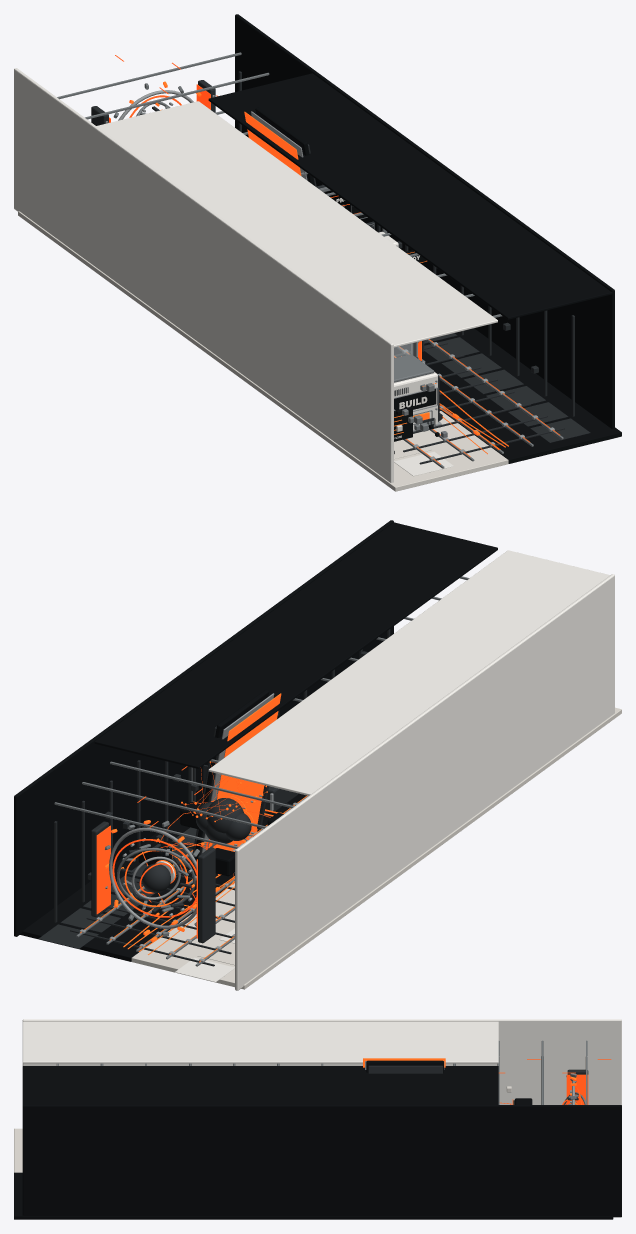
Rendered from egain-corridor.glb.
3 views of the same model, one above another, from view 1: azimuth 30°, elevation 25°; view 2: azimuth 150°, elevation 25°; view 3: azimuth 270°, elevation 25° (orthographic). The views are drawn at different scales.
Parts seen in each view (by area): view 1: EnvironmentBatch_05_WarmPorcelain, EnvironmentBatch_02_InkBlack, EnvironmentBatch_04_WarmArchitecturalWhite, EnvironmentBatch_01_Graphite, SignalBatch_02_Graphite, EnvironmentBatch_00_BrushedSteel, SignalBatch_00_BrushedSteel, BuildShellBatch_04_WarmPorcelain, ProtectBladeBatch_04_SignalOrange, SignalBatch_03_SignalOrange, BuildShellBatch_00_BrushedSteel; view 2: EnvironmentBatch_05_WarmPorcelain, EnvironmentBatch_02_InkBlack, EnvironmentBatch_04_WarmArchitecturalWhite, EnvironmentBatch_01_Graphite, ProtectBladeBatch_04_SignalOrange, FinalePylonsBatch_01_Graphite, EnvironmentBatch_00_BrushedSteel, OperateCanopyBatch_00_Graphite, OperateNodesBatch_03_InkBlack, FinalePylonsBatch_03_SignalOrangeDim, SignalBatch_02_Graphite, FinaleRing_0 (+5 smaller); view 3: EnvironmentBatch_02_InkBlack, EnvironmentBatch_05_WarmPorcelain, ProtectBladeBatch_02_Graphite, EnvironmentBatch_04_WarmArchitecturalWhite, EnvironmentBatch_00_BrushedSteel, ProtectBladeBatch_03_InkBlack, FinalePylonsBatch_03_SignalOrangeDim.
Part boxes in pixels (x1,y1,x2,y2): EnvironmentBatch_05_WarmPorcelain: [14, 68, 497, 482]; EnvironmentBatch_02_InkBlack: [208, 14, 621, 463]; EnvironmentBatch_04_WarmArchitecturalWhite: [18, 211, 508, 491]; EnvironmentBatch_01_Graphite: [238, 71, 590, 442]; SignalBatch_02_Graphite: [394, 342, 564, 464]; EnvironmentBatch_00_BrushedSteel: [57, 52, 502, 317]; SignalBatch_00_BrushedSteel: [396, 339, 563, 468]; BuildShellBatch_04_WarmPorcelain: [394, 372, 437, 429]; ProtectBladeBatch_04_SignalOrange: [244, 111, 301, 175]; SignalBatch_03_SignalOrange: [394, 339, 559, 464]; BuildShellBatch_00_BrushedSteel: [394, 354, 434, 382]; EnvironmentBatch_05_WarmPorcelain: [175, 550, 614, 990]; EnvironmentBatch_02_InkBlack: [14, 520, 497, 961]; EnvironmentBatch_04_WarmArchitecturalWhite: [131, 707, 621, 989]; EnvironmentBatch_01_Graphite: [38, 629, 390, 948]; ProtectBladeBatch_04_SignalOrange: [208, 693, 281, 850]; FinalePylonsBatch_01_Graphite: [91, 821, 215, 943]; EnvironmentBatch_00_BrushedSteel: [54, 576, 469, 848]; OperateCanopyBatch_00_Graphite: [195, 798, 251, 843]; OperateNodesBatch_03_InkBlack: [138, 802, 283, 876]; FinalePylonsBatch_03_SignalOrangeDim: [96, 825, 197, 938]; SignalBatch_02_Graphite: [70, 803, 292, 966]; FinaleRing_0: [109, 827, 196, 928]; EnvironmentBatch_02_InkBlack: [14, 1066, 621, 1219]; EnvironmentBatch_05_WarmPorcelain: [22, 1019, 621, 1104]; ProtectBladeBatch_02_Graphite: [368, 1065, 442, 1073]; EnvironmentBatch_04_WarmArchitecturalWhite: [14, 1056, 587, 1172]; EnvironmentBatch_00_BrushedSteel: [57, 1040, 587, 1104]; ProtectBladeBatch_03_InkBlack: [366, 1060, 443, 1072]; FinalePylonsBatch_03_SignalOrangeDim: [566, 1074, 588, 1104].
Size of the model in its own units: 23.6 by 15.33 by 69.
